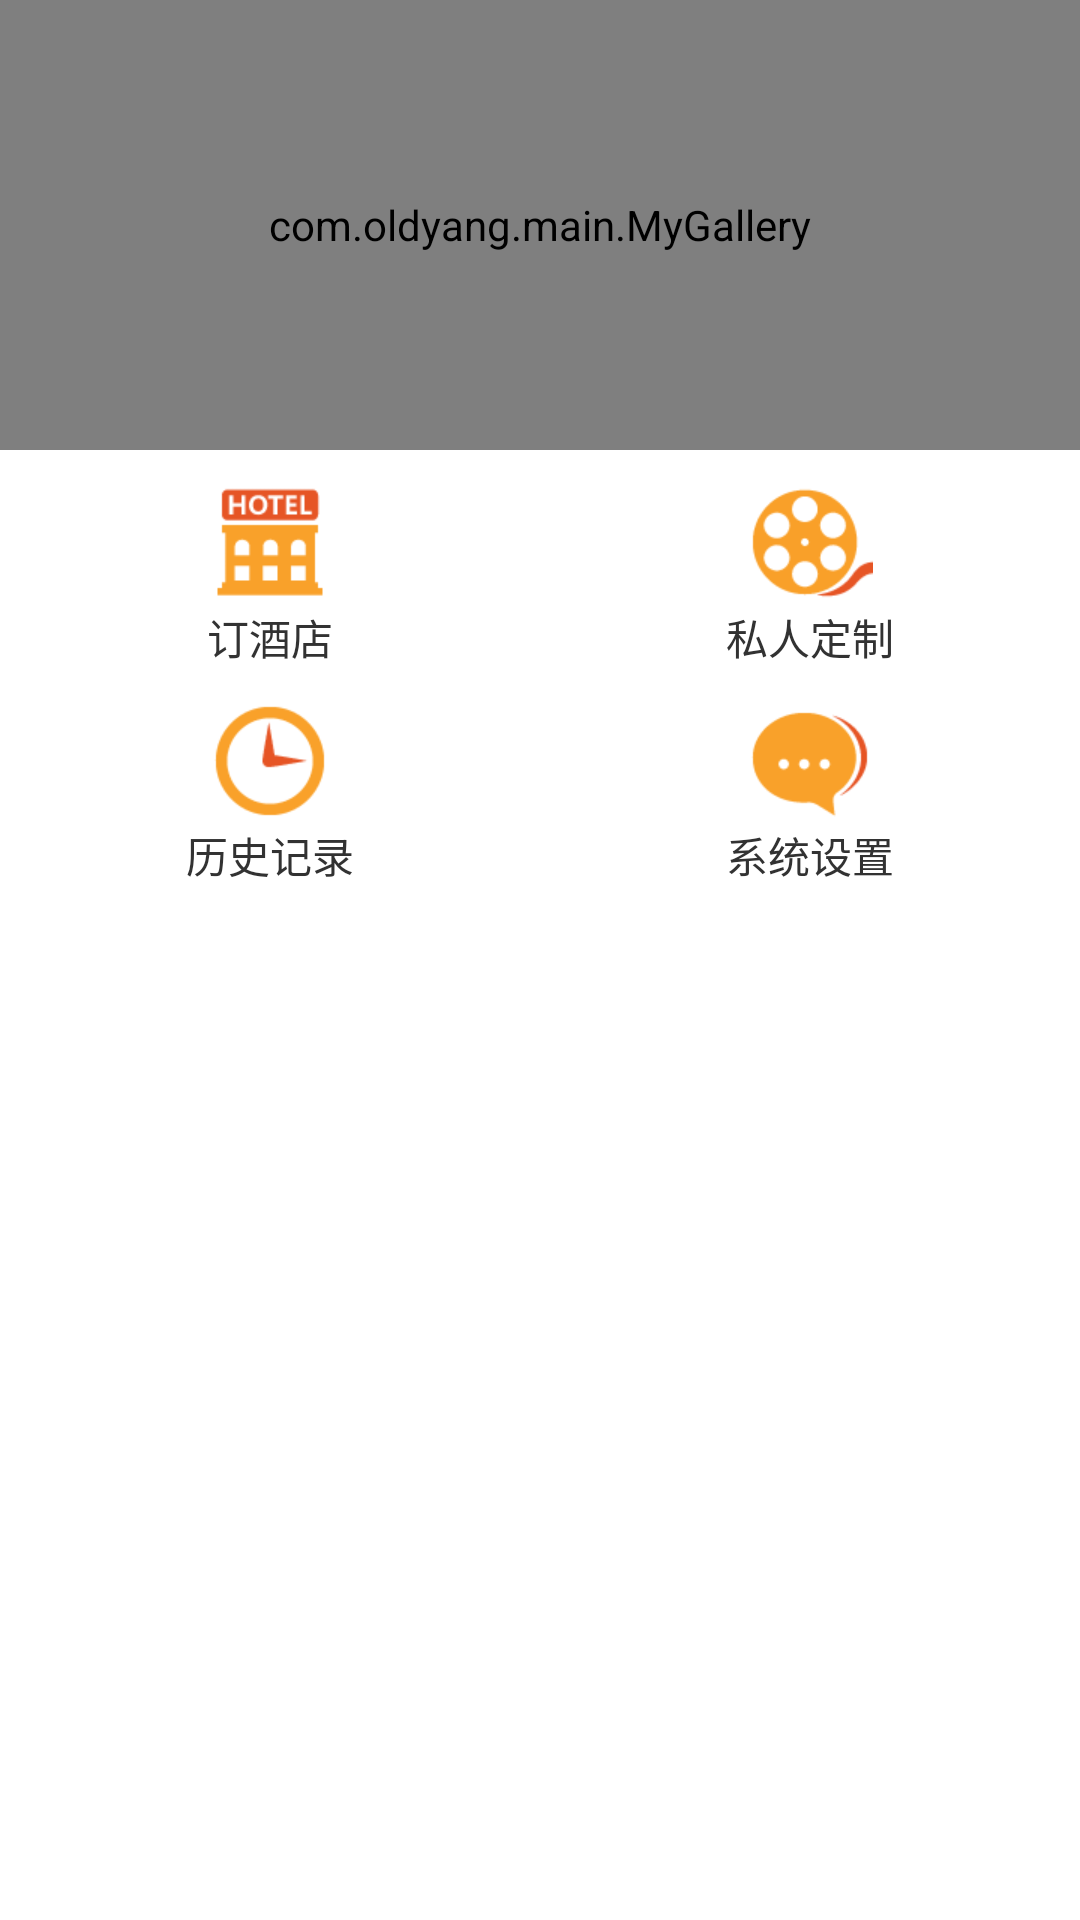

Icon bounding boxes for this 1080px×1920px phone screenshot, format detection(x1, y1, x2, y2):
film: detection(752, 489, 873, 597)
more: detection(752, 712, 868, 816)
